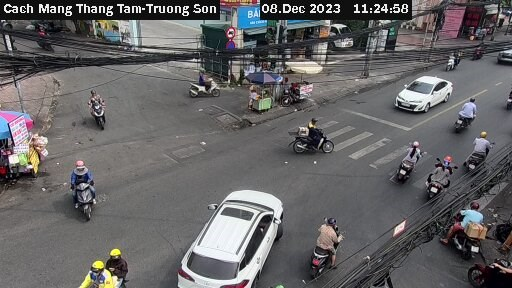car: (165, 185, 293, 277), (391, 69, 453, 115)
motorbike: (52, 166, 116, 223), (297, 216, 359, 268), (436, 199, 485, 256), (291, 117, 339, 158), (420, 148, 456, 202), (461, 132, 504, 176), (77, 91, 121, 130), (387, 138, 422, 182), (449, 92, 484, 134), (470, 257, 512, 288), (190, 70, 227, 101), (442, 46, 466, 75)
